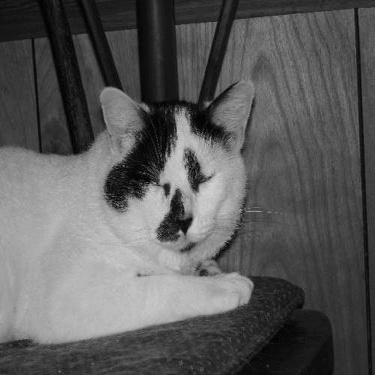cat: (1, 64, 261, 342)
